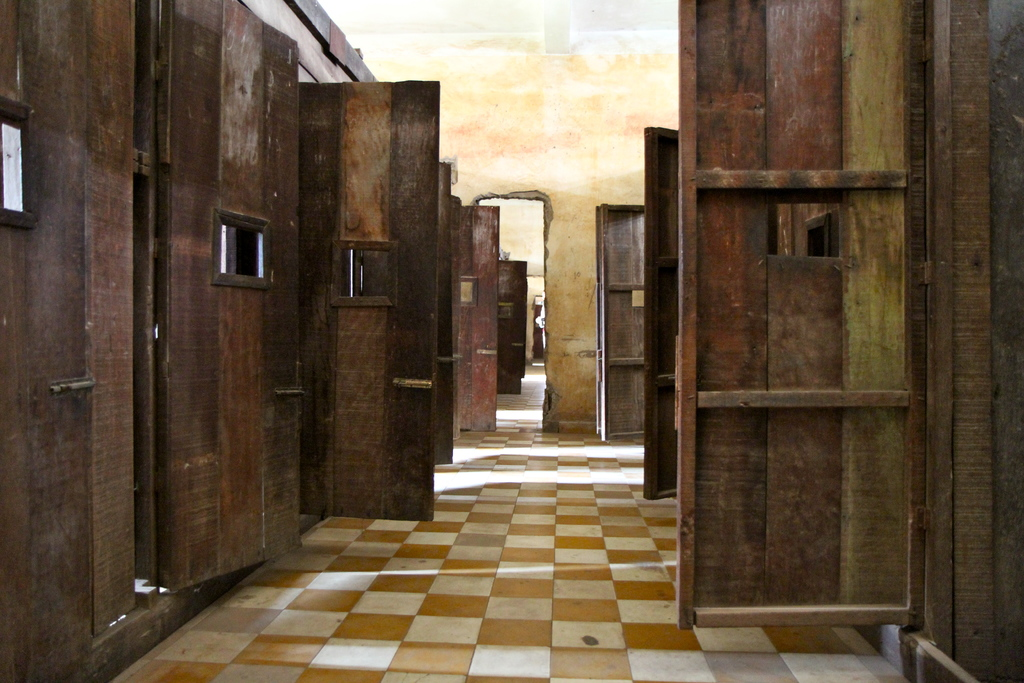door: (687, 28, 915, 617), (14, 28, 142, 616), (174, 28, 298, 554), (313, 93, 439, 508), (643, 136, 678, 491), (594, 199, 641, 440), (451, 211, 495, 424), (498, 257, 524, 393)
handle: (39, 374, 102, 402), (387, 363, 431, 397), (257, 378, 301, 401)
